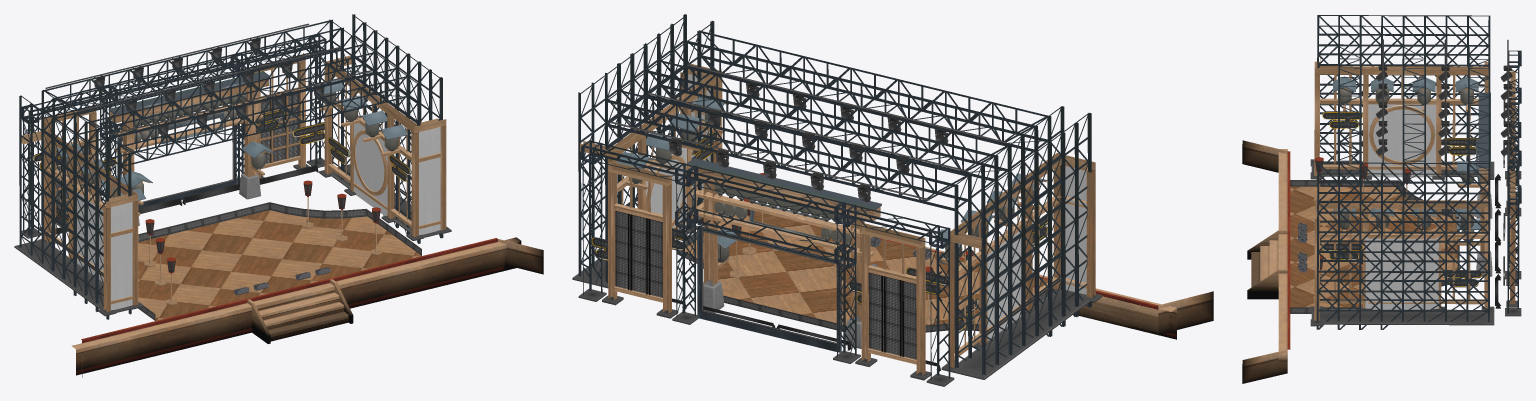
Rendered from stage.glb.
The picture shows the model from 3 angles, left to right: view 1: azimuth 30°, elevation 25°; view 2: azimuth 150°, elevation 25°; view 3: azimuth 270°, elevation 25°; orthographic projection. The views are drawn at different scales.
Parts seen in each view (by area): view 1: bg0022_01_partsA_opa_mt, bg0022_01_woodA_opa_mt, bg0022_01_floorA_opa_ref_mt, bg0022_01_lanternA_opa_ref_mt_bg0022_01_lanternA_opa_ref_mt_; view 2: bg0022_01_partsA_opa_mt, bg0022_01_woodA_opa_mt, bg0022_01_floorA_opa_ref_mt, bg0022_01_lanternA_opa_ref_mt_bg0022_01_lanternA_opa_ref_mt_; view 3: bg0022_01_partsA_opa_mt, bg0022_01_woodA_opa_mt, bg0022_01_floorA_opa_ref_mt, bg0022_01_lanternA_opa_ref_mt_bg0022_01_lanternA_opa_ref_mt_.
Boxes of the visible parts, left/top/right/bottom form: bg0022_01_partsA_opa_mt: left=14, top=14, right=451, bottom=320; bg0022_01_woodA_opa_mt: left=21, top=53, right=543, bottom=377; bg0022_01_floorA_opa_ref_mt: left=138, top=210, right=421, bottom=320; bg0022_01_lanternA_opa_ref_mt_bg0022_01_lanternA_opa_ref_mt_: left=61, top=91, right=398, bottom=225; bg0022_01_partsA_opa_mt: left=572, top=14, right=1102, bottom=386; bg0022_01_woodA_opa_mt: left=580, top=63, right=1213, bottom=375; bg0022_01_floorA_opa_ref_mt: left=685, top=211, right=1047, bottom=325; bg0022_01_lanternA_opa_ref_mt_bg0022_01_lanternA_opa_ref_mt_: left=629, top=112, right=1034, bottom=348; bg0022_01_partsA_opa_mt: left=1290, top=15, right=1521, bottom=329; bg0022_01_woodA_opa_mt: left=1242, top=56, right=1515, bottom=383; bg0022_01_floorA_opa_ref_mt: left=1290, top=186, right=1457, bottom=307; bg0022_01_lanternA_opa_ref_mt_bg0022_01_lanternA_opa_ref_mt_: left=1338, top=88, right=1492, bottom=276.
Size of the model in its own units: 31.51 by 12.35 by 16.91.
Materials: 4 (4 with a texture image).
